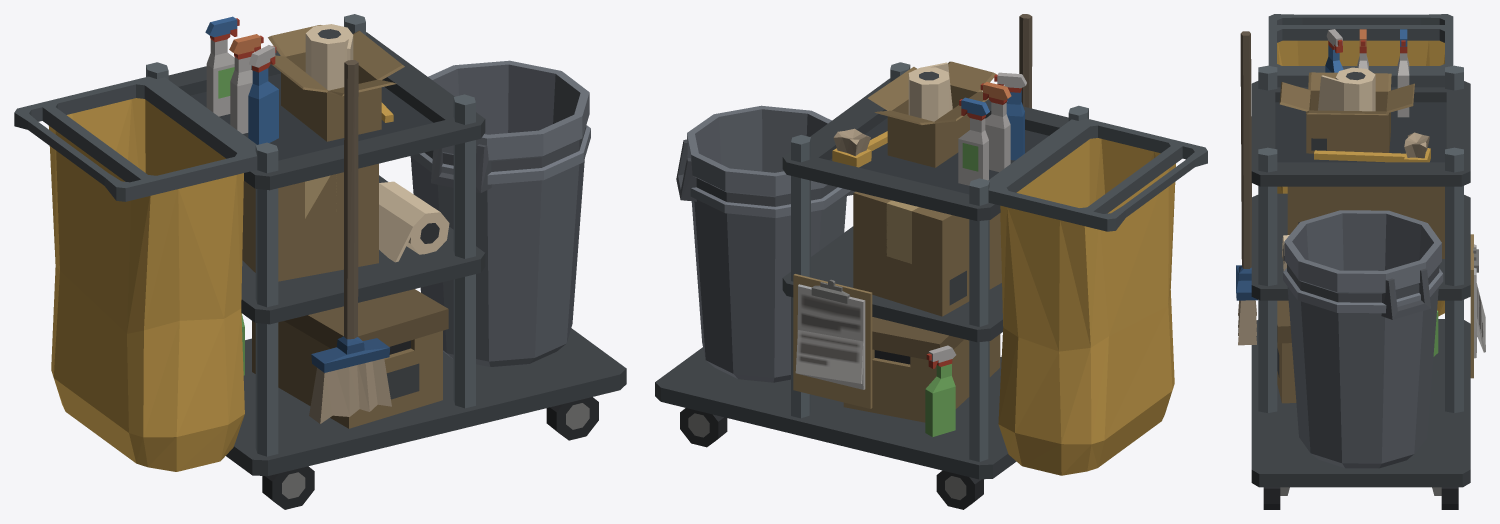
The model's file is JanitorCart.obj.
3 views of the same model, side by side, from view 1: azimuth 30°, elevation 25°; view 2: azimuth 150°, elevation 25°; view 3: azimuth 270°, elevation 25° (orthographic). The views are drawn at different scales.
Visible parts, largest first — view 1: JanitorCart; view 2: JanitorCart; view 3: JanitorCart.
Boxes of the visible parts, <box> form: JanitorCart: <box>14,14,626,509</box>; JanitorCart: <box>655,14,1207,509</box>; JanitorCart: <box>1236,14,1485,509</box>.
Size of the model in its own units: 1.42 by 1.15 by 0.6945.
1 material, 1 textured.
